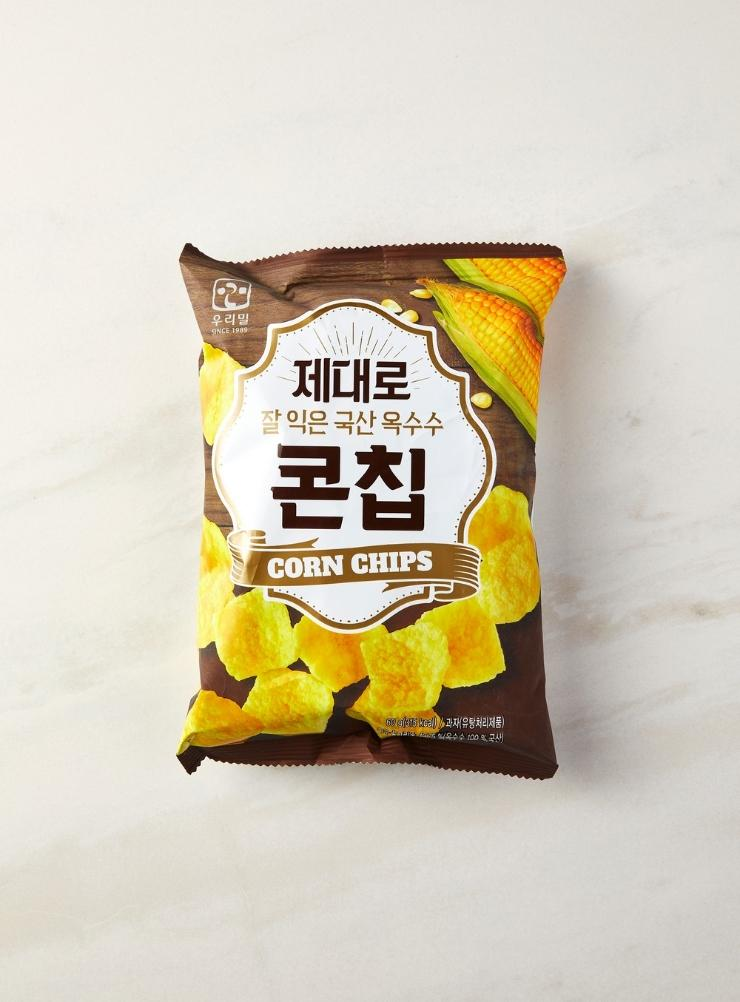snack: (176, 240, 569, 780)
